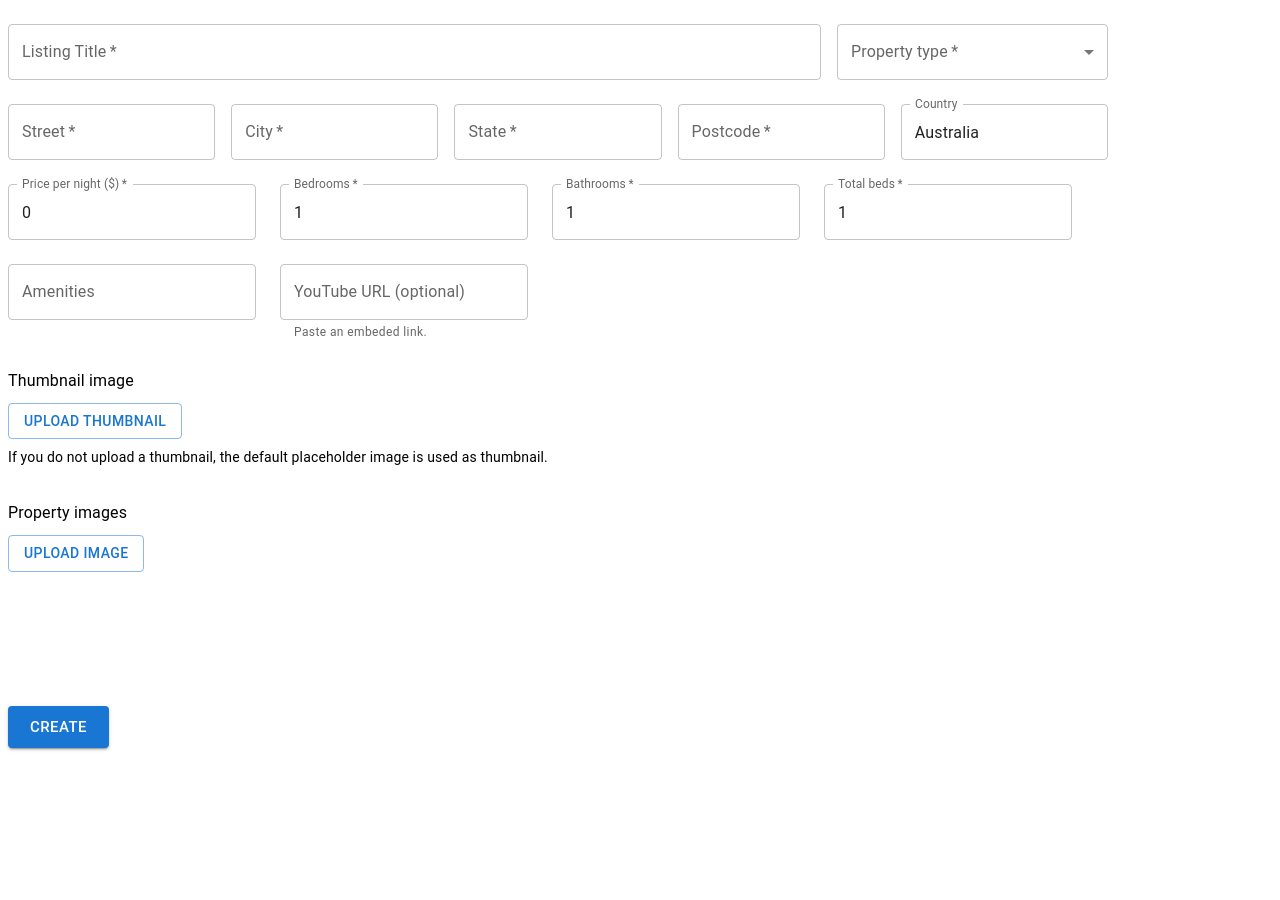
Test: ListingForm › does not show Add button when amenity input is empty
Expected: the button "Add" is not shown
// Type something
Step 1. Type "WiFi" into the field labelled "Amenities" → (132, 292), box [8,264,256,320]
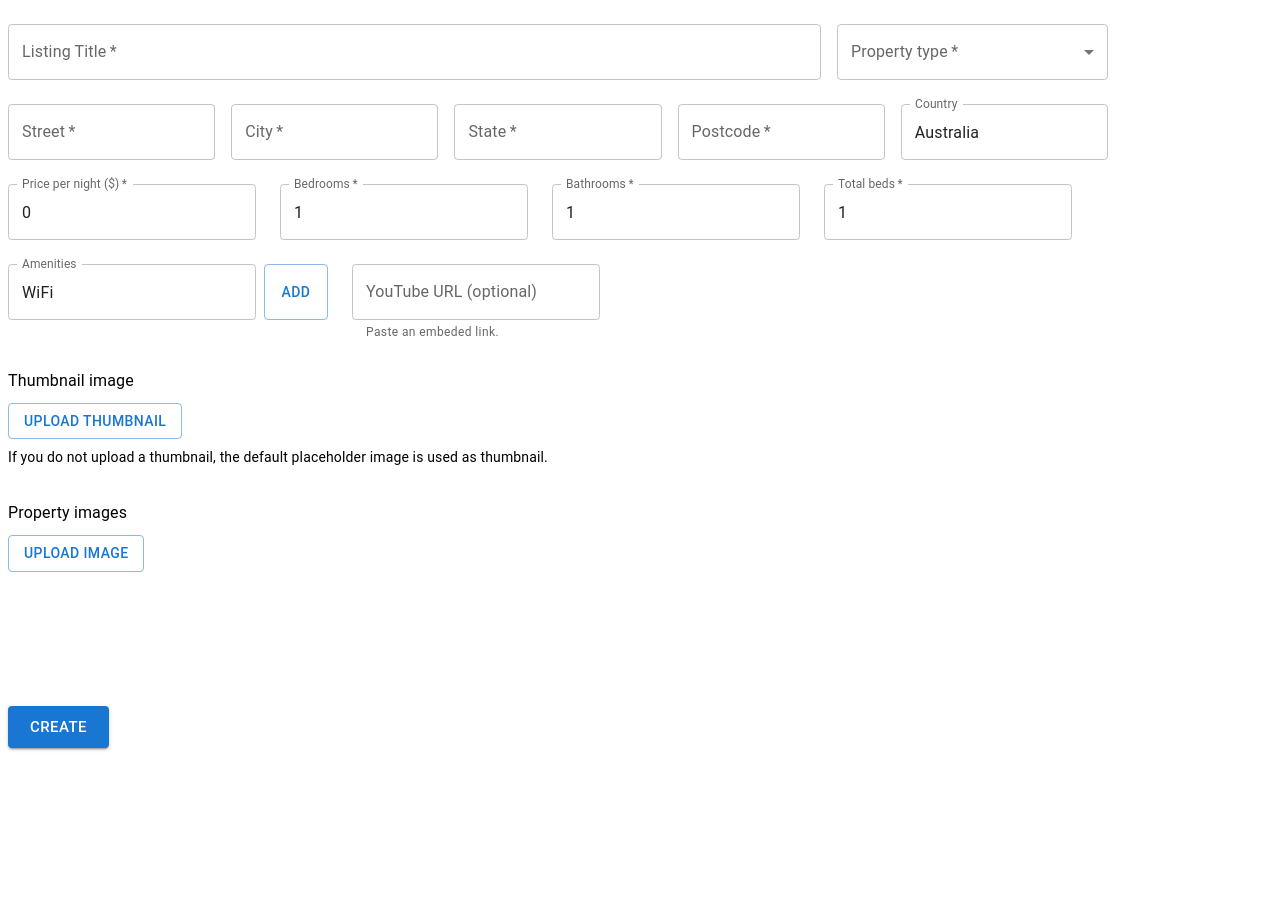
Result: the button "Add" is shown at [264,264,328,320]
// Clear input
Step 2. Clear the field labelled "Amenities" → (132, 292), box [8,264,256,320]
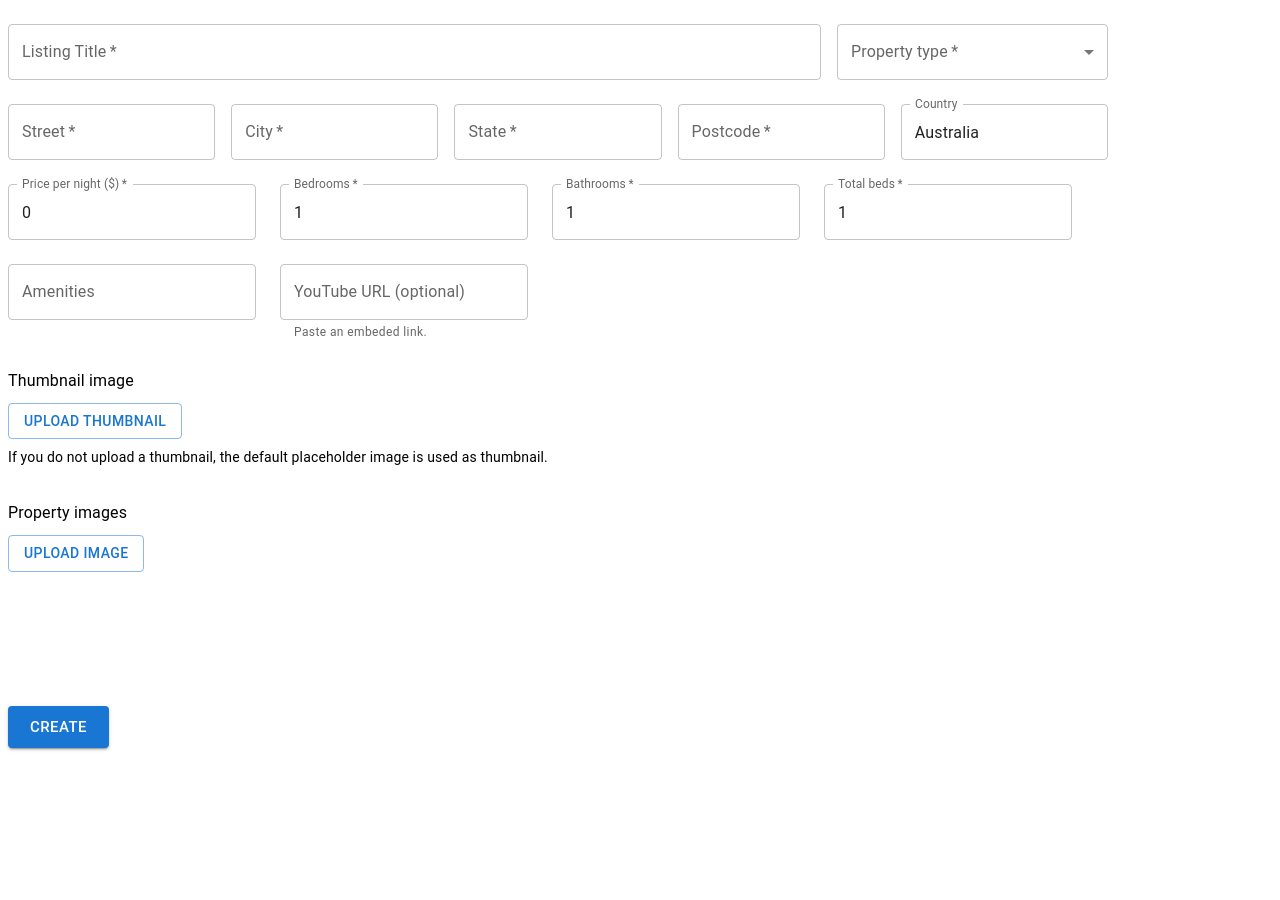
Result: the button "Add" is gone
